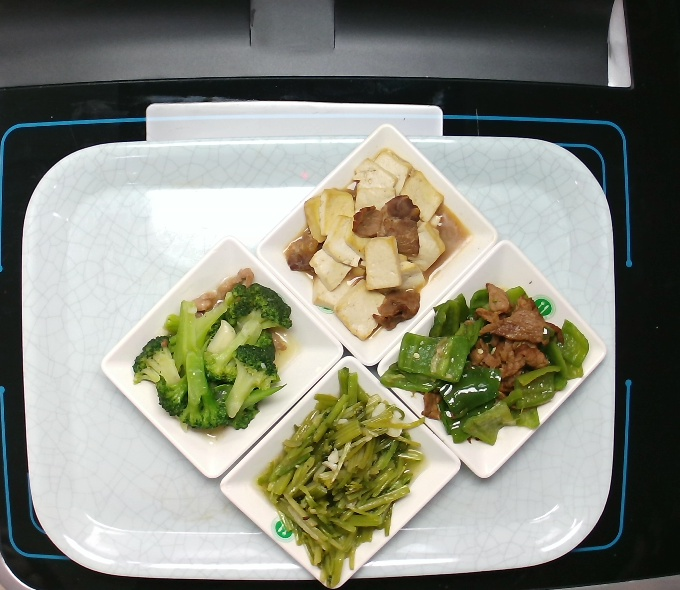wcq-DouFuRouPian: (276, 143, 469, 344)
wcq-QinCai: (248, 366, 429, 587)
wcq-QingJiaoChaoRou: (383, 285, 593, 445)
wcq-XiLanHua: (118, 269, 301, 445)
